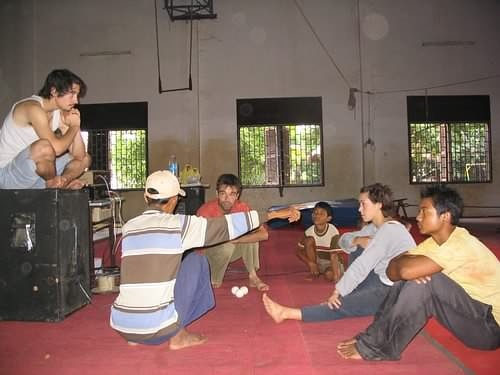head: (414, 185, 455, 242), (141, 169, 188, 216), (42, 65, 83, 113), (357, 182, 396, 225), (212, 171, 244, 215), (310, 201, 334, 231)
person: (330, 184, 499, 359), (108, 173, 277, 345), (259, 192, 418, 327), (1, 69, 87, 191), (190, 173, 273, 291), (296, 201, 345, 284)
